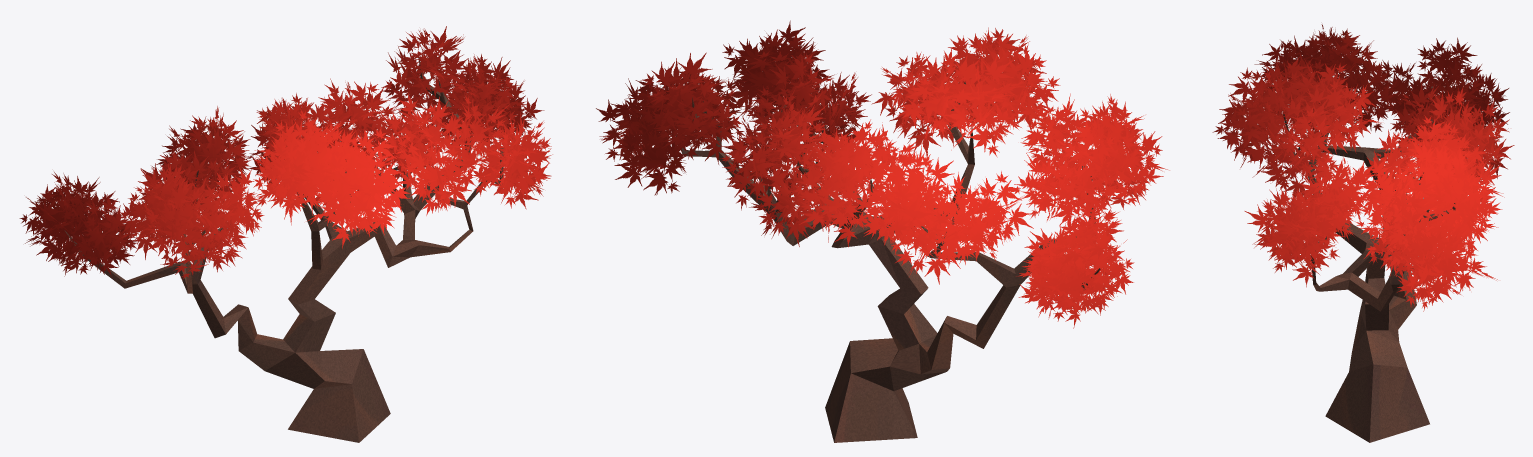
File: japanese_maple_ver1.fbx
The picture shows the model from 3 angles, left to right: view 1: azimuth 30°, elevation 25°; view 2: azimuth 150°, elevation 25°; view 3: azimuth 270°, elevation 25°; orthographic projection. The views are drawn at different scales.
Visible parts, largest first — view 1: leaves, treetrunk; view 2: leaves, treetrunk; view 3: leaves, treetrunk.
Part boxes in pixels (x1,y1,x2,y2): leaves: (19,26,552,279); treetrunk: (64,57,503,442); leaves: (596,20,1169,328); treetrunk: (676,81,1100,442); leaves: (1212,24,1514,311); treetrunk: (1283,86,1455,442).
Size of the model in its own units: 1417 by 899 by 772.
2 materials, 1 textured.
